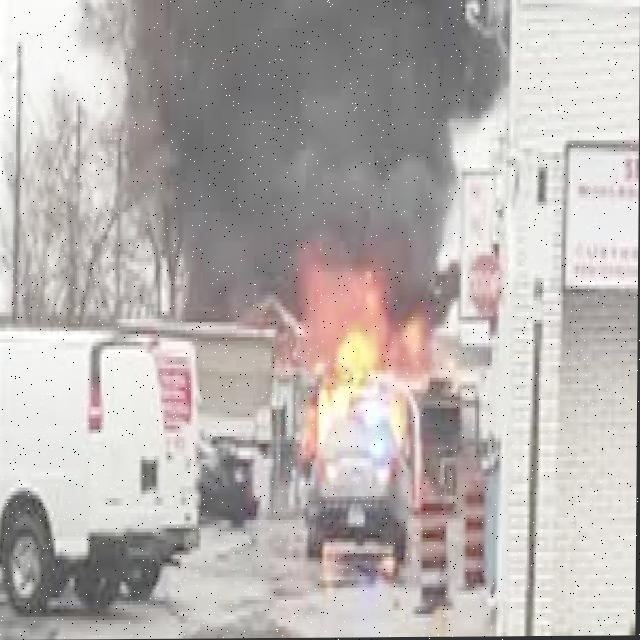Fire: (271, 242, 434, 489)
